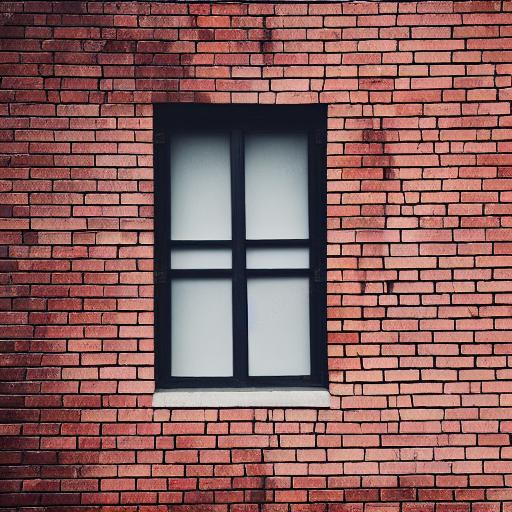Window: (150, 98, 332, 409)
